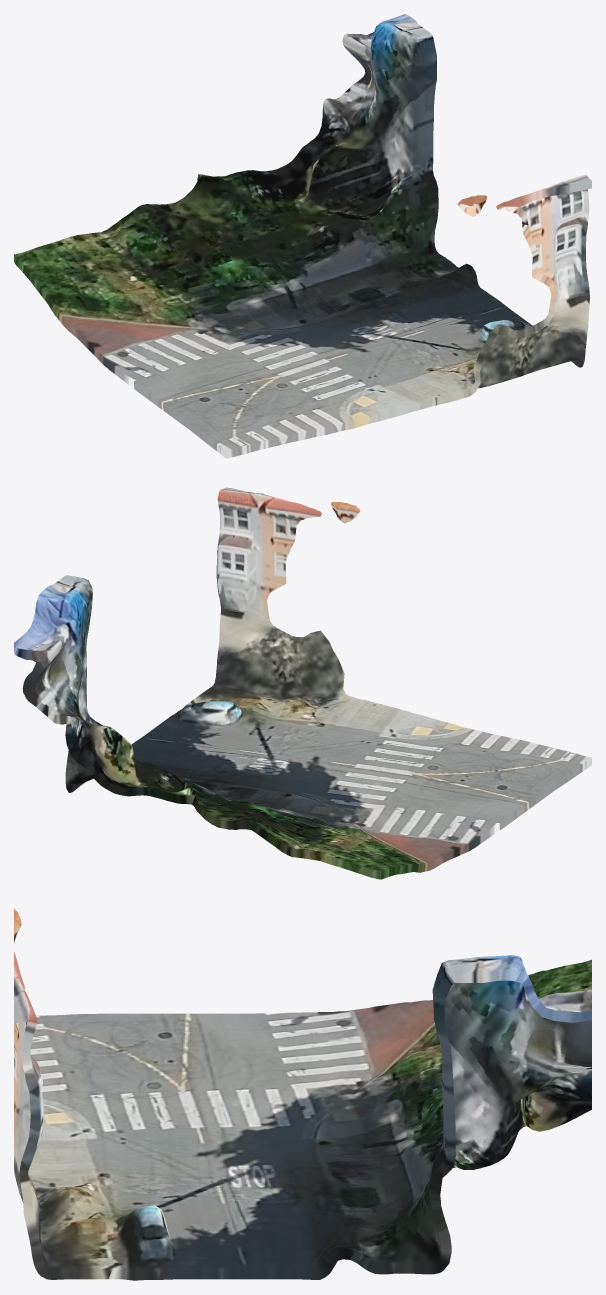
The model's file is z20-167719-405195-h0-yup-uvflip-v3-world.glb.
3 views of the same model, one above another, from view 1: azimuth 30°, elevation 25°; view 2: azimuth 150°, elevation 25°; view 3: azimuth 270°, elevation 25° (orthographic). The views are drawn at different scales.
Bounding box in the file's own units: 30.16 × 18 × 30.32.
1 material, 1 textured.
